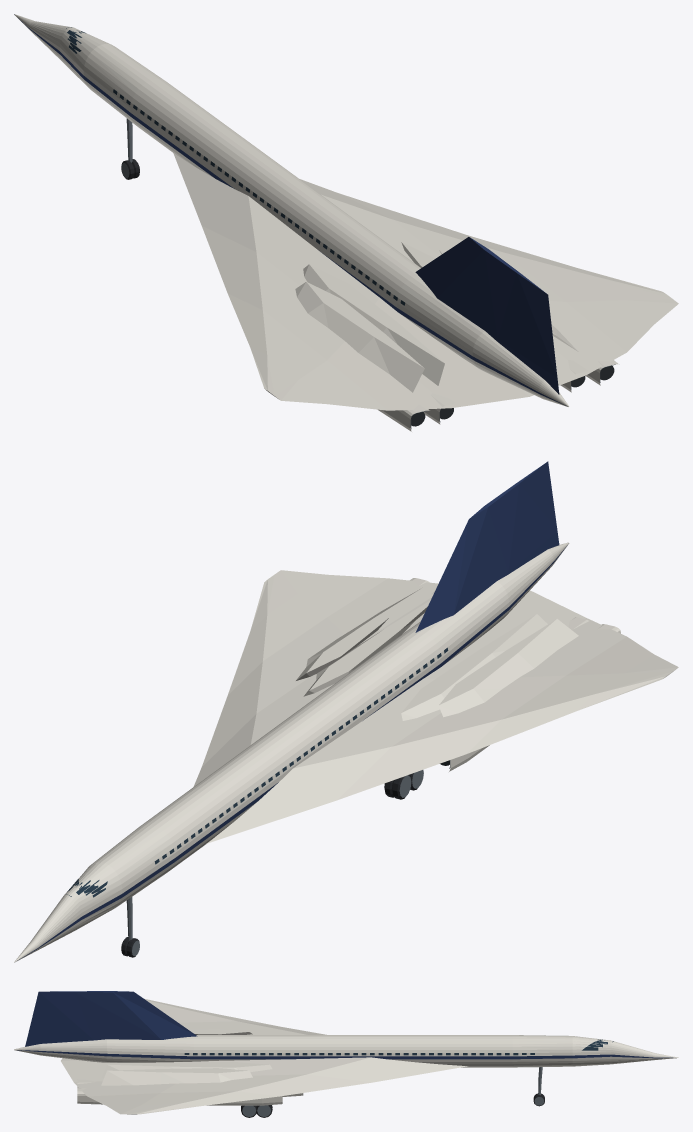
Rendered from concorde.glb.
The picture shows the model from 3 angles, top to bottom: view 1: azimuth 30°, elevation 25°; view 2: azimuth 150°, elevation 25°; view 3: azimuth 270°, elevation 25°; orthographic projection. The views are drawn at different scales.
Parts seen in each view (by area): view 1: airframe; view 2: airframe, gear; view 3: airframe, gear.
Part boxes in pixels (box(x1,y1,x2,y2)): airframe: box(14, 14, 678, 431); airframe: box(14, 461, 678, 962); gear: box(121, 770, 423, 957); airframe: box(14, 991, 678, 1114); gear: box(241, 1067, 544, 1117).
Size of the model in its own units: 25.56 by 11.6 by 61.66.
